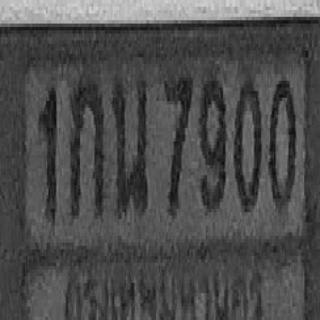A01: (70, 78, 104, 216)
A25: (112, 74, 148, 212)
N00: (268, 78, 296, 209), (234, 76, 261, 211)
N01: (39, 84, 56, 219)
N07: (164, 72, 192, 214)
N09: (199, 72, 226, 210)
